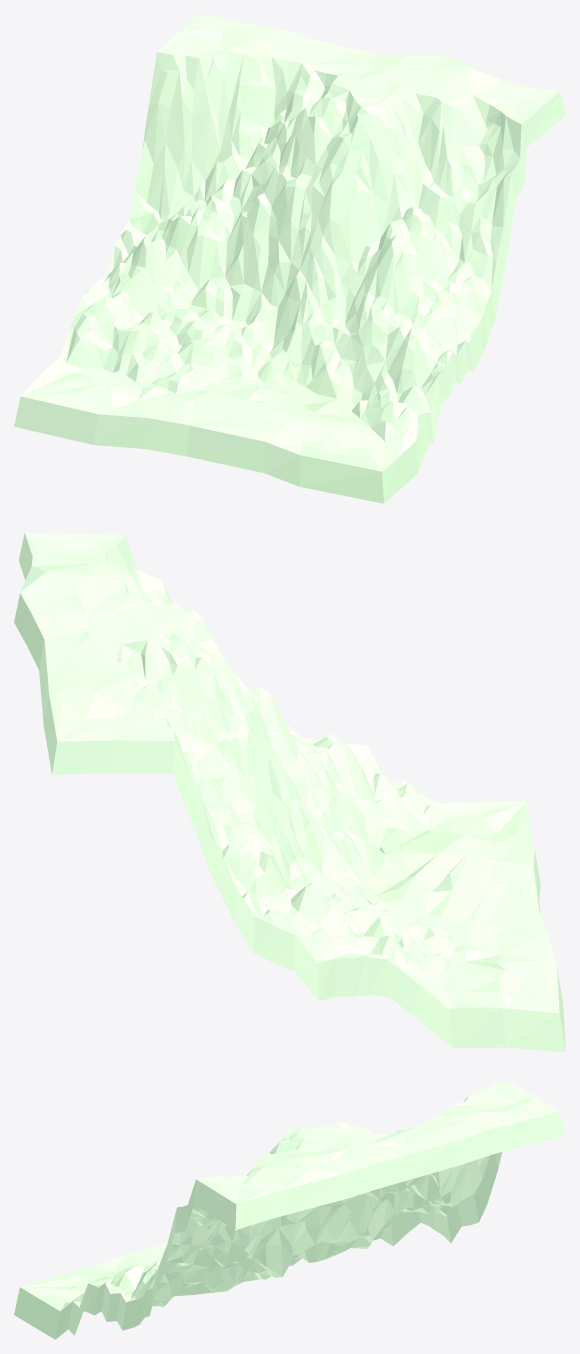
File: 岩カラー.fbx
The picture shows the model from 3 angles, top to bottom: view 1: azimuth 30°, elevation 25°; view 2: azimuth 150°, elevation 25°; view 3: azimuth 270°, elevation 25°; orthographic projection. The views are drawn at different scales.
Visible parts, largest first — view 1: PP_Cliff_03; view 2: PP_Cliff_03; view 3: PP_Cliff_03.
Boxes of the visible parts, x1,y1,x2,y2 form: PP_Cliff_03: (14, 14, 565, 503); PP_Cliff_03: (14, 532, 565, 1052); PP_Cliff_03: (14, 1081, 565, 1339).
Bounding box in the file's own units: 6008 × 3095 × 6009.
